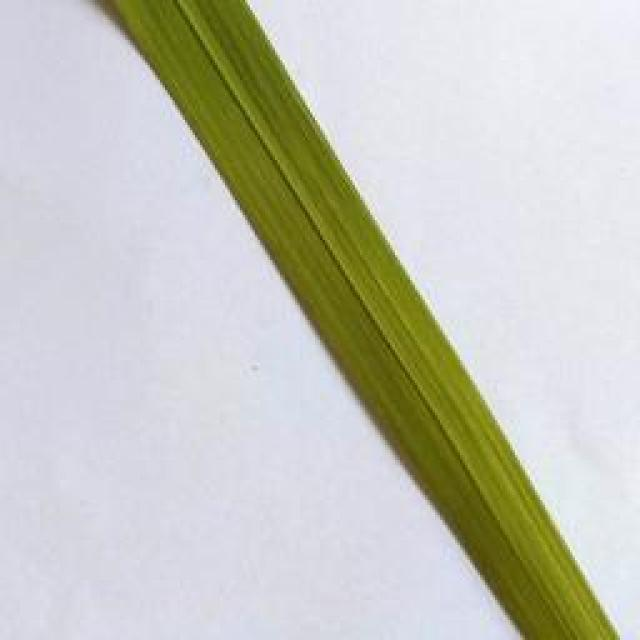Healthy-Plant: (108, 0, 613, 640)
